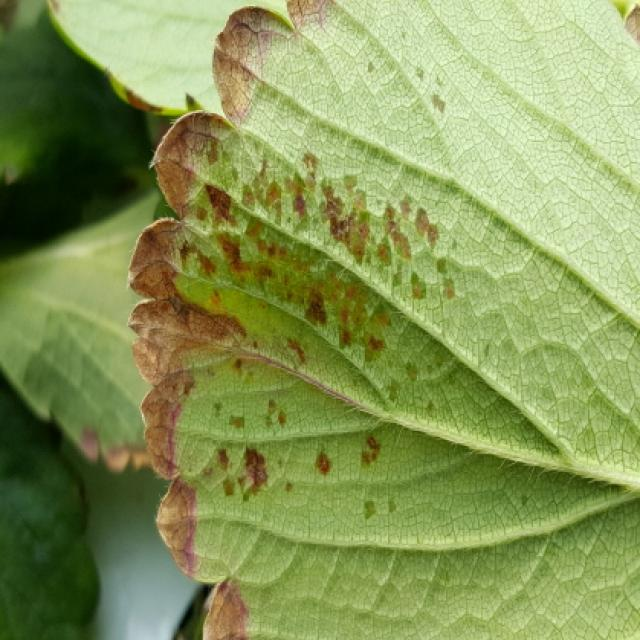Angular Leafspot: (142, 20, 503, 525)
